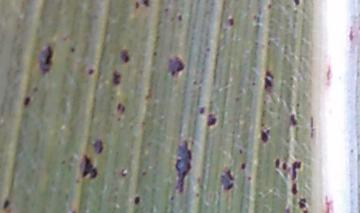tarspot: (173, 139, 191, 194), (35, 43, 55, 77), (79, 153, 98, 180), (165, 54, 184, 78), (217, 168, 234, 192), (307, 114, 318, 141), (262, 70, 275, 90), (91, 138, 106, 155), (291, 159, 302, 182), (321, 192, 333, 213), (205, 112, 217, 129), (118, 48, 131, 63), (259, 127, 271, 143), (325, 62, 332, 87), (225, 14, 237, 28), (114, 101, 126, 115), (288, 112, 299, 127), (142, 86, 153, 100), (111, 69, 120, 86), (347, 25, 355, 42), (22, 96, 32, 108), (84, 67, 96, 77), (290, 181, 298, 196), (297, 197, 307, 209), (274, 156, 281, 171), (119, 166, 129, 176), (290, 1, 302, 9), (281, 161, 288, 173), (141, 1, 151, 9), (294, 101, 302, 111), (3, 199, 10, 210), (150, 50, 158, 59), (133, 195, 140, 205), (197, 105, 204, 115), (176, 13, 183, 23), (190, 77, 197, 87), (32, 84, 39, 94), (168, 194, 176, 202), (233, 95, 241, 103), (133, 1, 140, 10), (239, 161, 246, 170), (162, 6, 171, 13), (349, 146, 355, 156), (68, 46, 75, 54), (246, 174, 253, 182), (203, 46, 211, 53), (237, 146, 243, 155), (141, 168, 147, 177), (283, 207, 291, 213), (250, 80, 256, 88), (287, 75, 295, 81), (60, 158, 66, 166), (194, 192, 200, 198), (300, 209, 308, 213), (266, 3, 270, 9)
